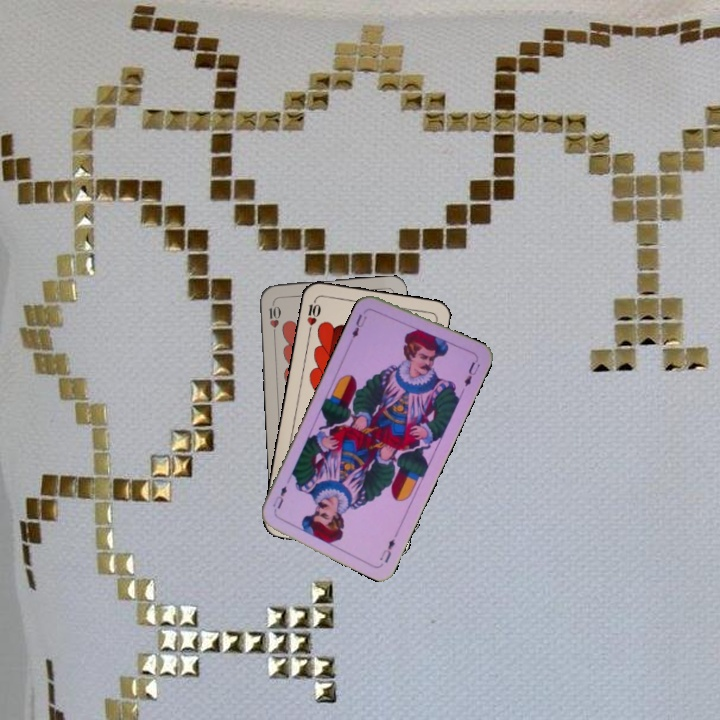EU: (376, 535, 398, 566), (348, 310, 369, 341)
H10: (303, 294, 323, 335), (265, 297, 283, 337)
